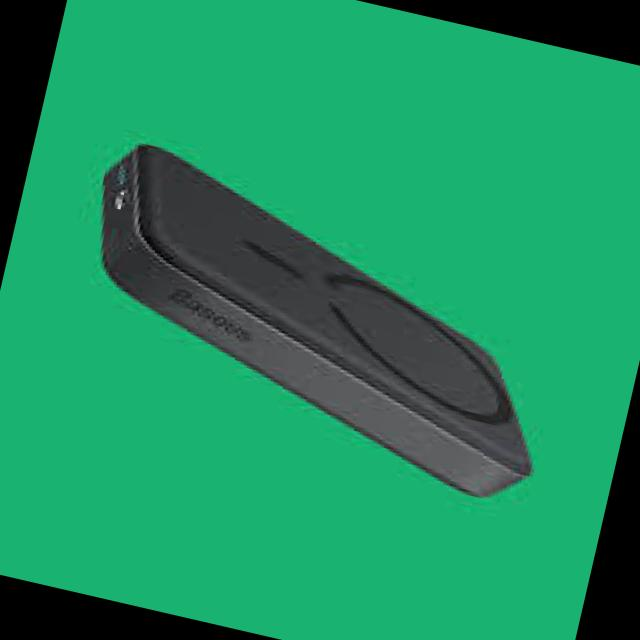portable-charger: (47, 128, 599, 516)
